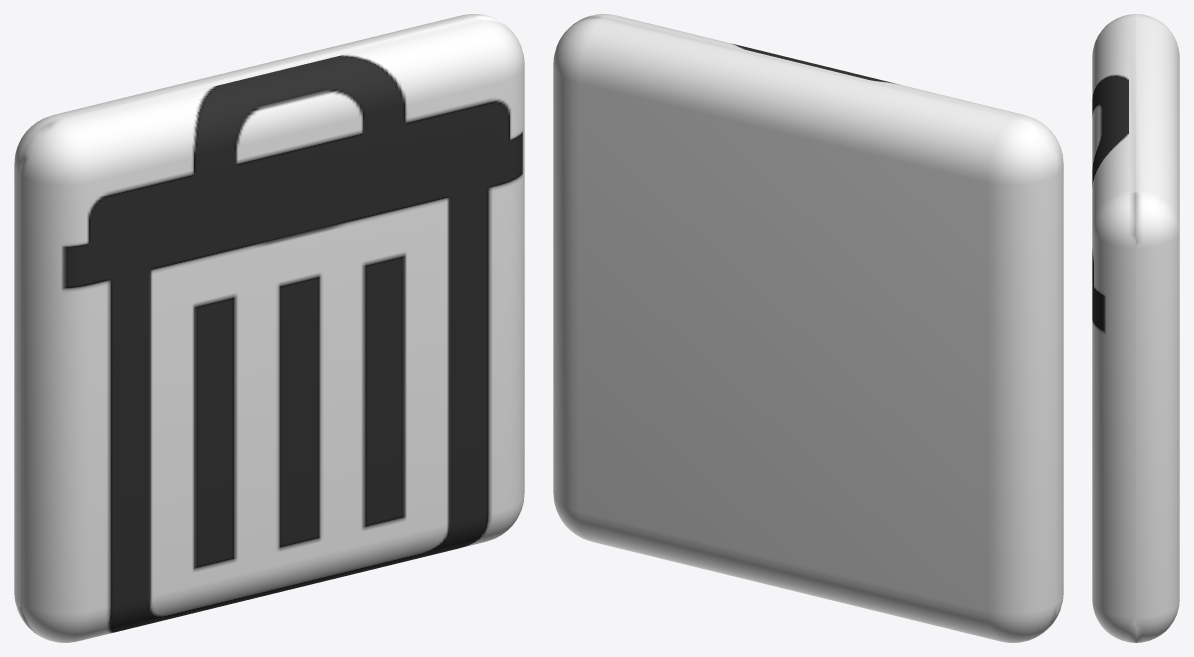
The model's file is delete.glb.
3 views of the same model, side by side, from view 1: azimuth 30°, elevation 25°; view 2: azimuth 150°, elevation 25°; view 3: azimuth 270°, elevation 25° (orthographic). The views are drawn at different scales.
Parts seen in each view (by area): view 1: Cube; view 2: Cube; view 3: Cube.
Boxes of the visible parts, x1=… form: Cube: x1=14, y1=14, x2=524, y2=642; Cube: x1=553, y1=14, x2=1063, y2=642; Cube: x1=1092, y1=14, x2=1179, y2=642.
Bounding box in the file's own units: 2 × 2 × 0.3535.
1 material, 1 textured.
